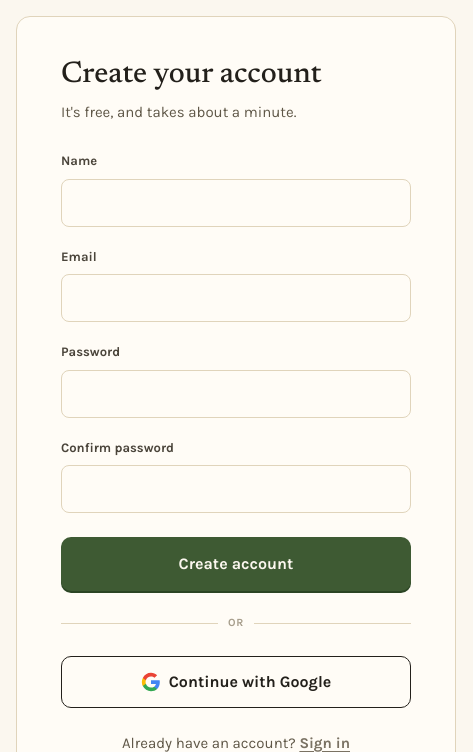
Test case: RegisterPage › sends the details and moves on to the code step
In the field labelled "Name": (236, 202) [61,178,411,226], type "Jamie Alder"
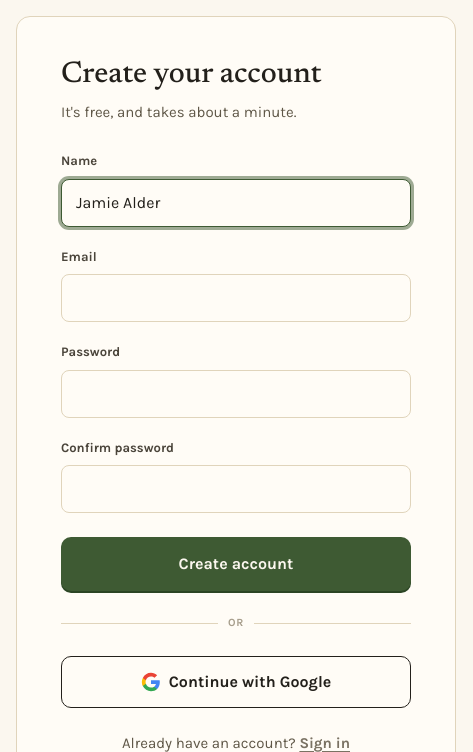
In the field labelled "Email": (236, 298) [61,274,411,322], type "jamie@example.com"
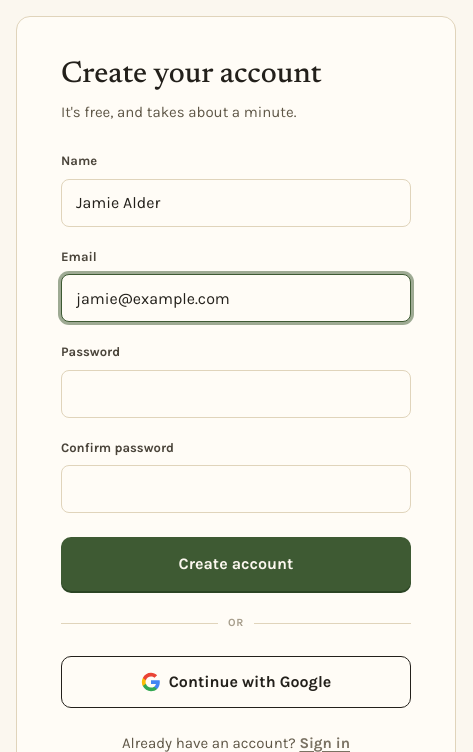
In the password field labelled "Password": (236, 394) [61,370,411,418], type "correcthorse"
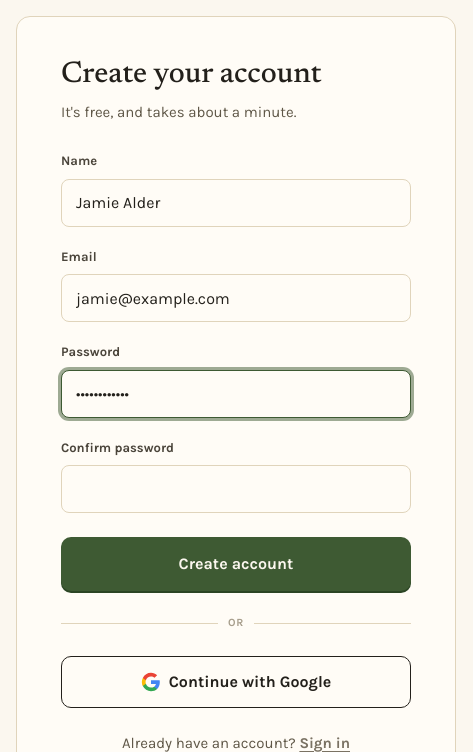
In the password field labelled "Confirm password": (236, 489) [61,465,411,513], type "correcthorse"
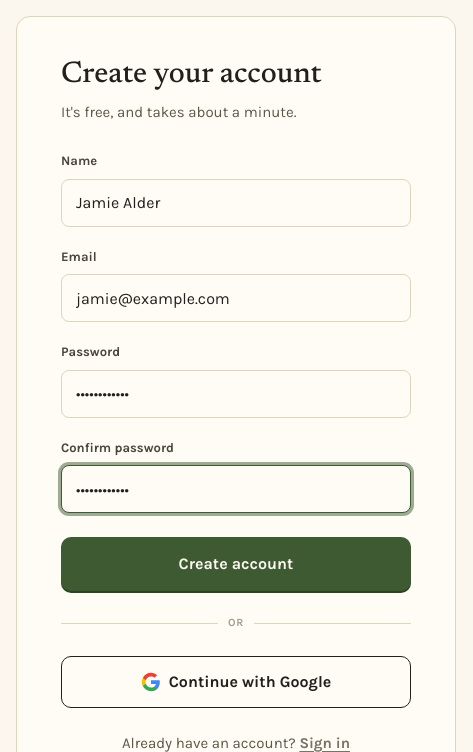
Click the button "Create account": click(236, 564) [61,537,411,591]
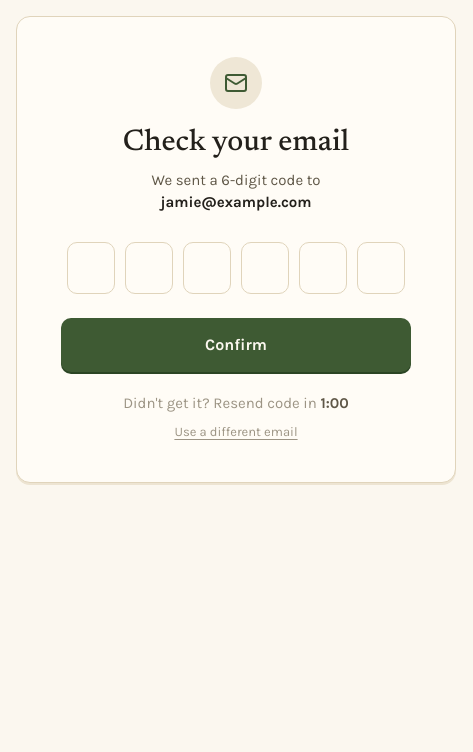
Expected: the heading "Check your email" is shown, [123,125,349,162]
Expected: the text "jamie@example.com" is shown, [160,193,312,211]
